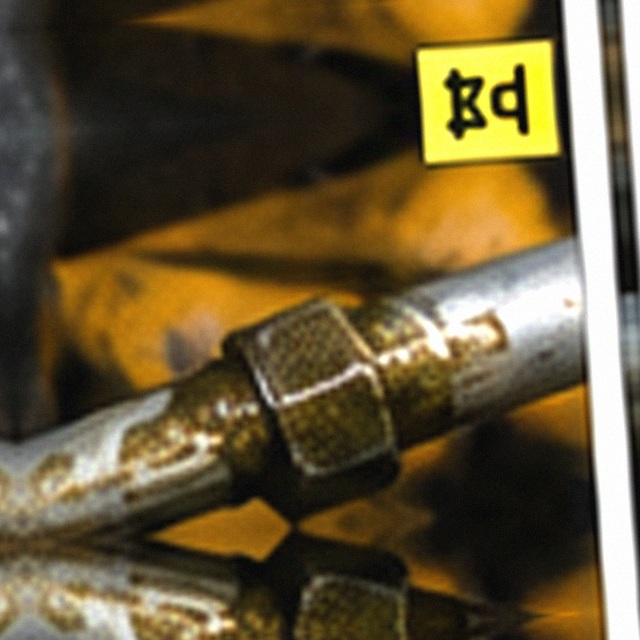hydraulic_oil_leak: (217, 219, 439, 495)
